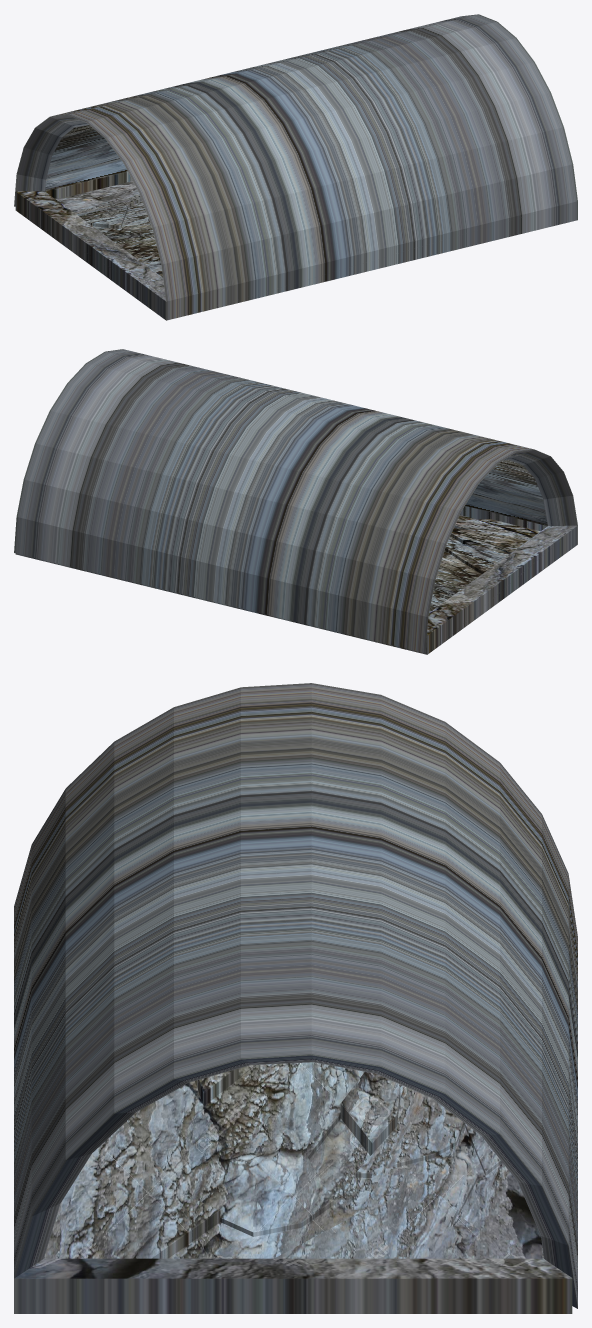
Rendered from suelocueva2222.fbx.
3 renders of one model, top to bottom at view 1: azimuth 30°, elevation 25°; view 2: azimuth 150°, elevation 25°; view 3: azimuth 270°, elevation 25°, orthographic. The views are drawn at different scales.
Parts seen in each view (by area): view 1: Plano; view 2: Plano; view 3: Plano.
Part boxes in pixels (x1=…): Plano: x1=14, y1=14, x2=577, y2=320; Plano: x1=14, y1=349, x2=577, y2=654; Plano: x1=14, y1=683, x2=577, y2=1313.
Bounding box in the file's own units: 5467 × 1772 × 3501.
1 material, 1 textured.
